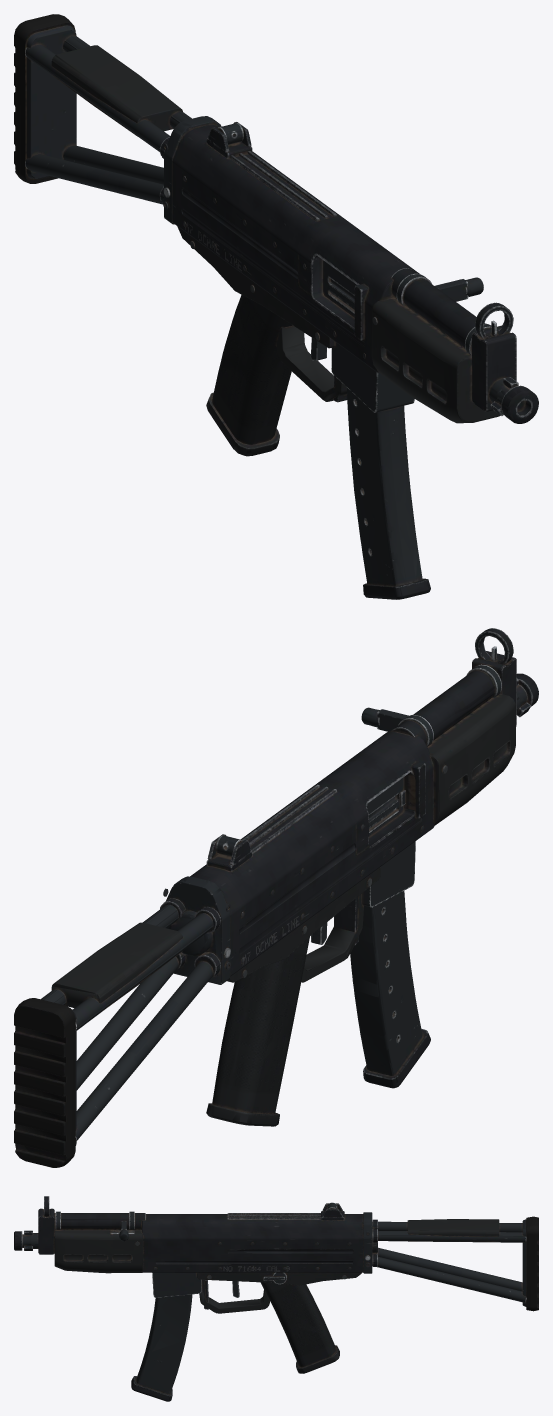
3 views of the same model, one above another, from view 1: azimuth 30°, elevation 25°; view 2: azimuth 150°, elevation 25°; view 3: azimuth 270°, elevation 25° (orthographic). The views are drawn at different scales.
Parts seen in each view (by area): view 1: m7, m7_w, m7_mag; view 2: m7, m7_w, m7_mag; view 3: m7, m7_w, m7_mag.
Part boxes in pixels (left/top/right/bottom): m7: left=14, top=14, right=538, bottom=455; m7_w: left=14, top=23, right=538, bottom=599; m7_mag: left=347, top=388, right=430, bottom=599; m7: left=14, top=628, right=538, bottom=1167; m7_w: left=14, top=628, right=538, bottom=1167; m7_mag: left=350, top=891, right=430, bottom=1088; m7: left=14, top=1196, right=538, bottom=1373; m7_w: left=14, top=1196, right=538, bottom=1401; m7_mag: left=131, top=1294, right=192, bottom=1401.
Size of the model in its own units: 0.0647 by 0.2463 by 0.5832.
1 material, 1 textured.
